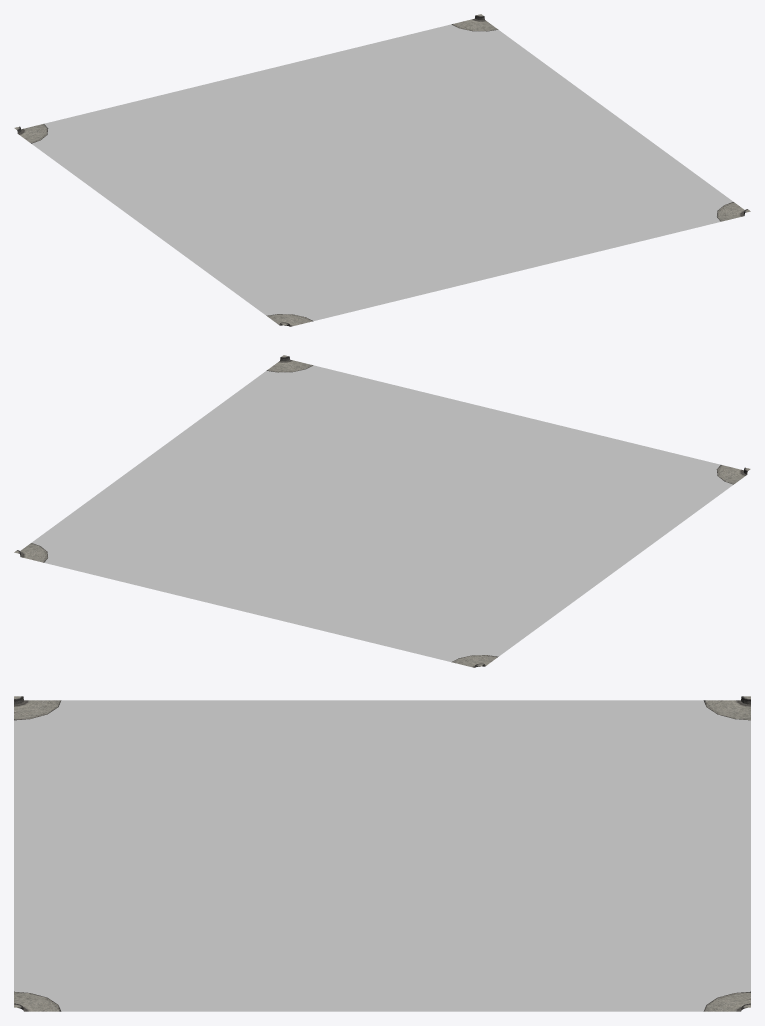
File: 1syasen_Cross.FBX
3 renders of one model, top to bottom at view 1: azimuth 30°, elevation 25°; view 2: azimuth 150°, elevation 25°; view 3: azimuth 270°, elevation 25°, orthographic. The views are drawn at different scales.
Visible parts, largest first — view 1: 1syasen_Cross; view 2: 1syasen_Cross; view 3: 1syasen_Cross.
Boxes of the visible parts, x1,y1,x2,y2 form: 1syasen_Cross: (14, 14, 750, 326); 1syasen_Cross: (14, 355, 750, 667); 1syasen_Cross: (14, 696, 750, 1011).
Size of the model in its own units: 316 by 1.97 by 316.
